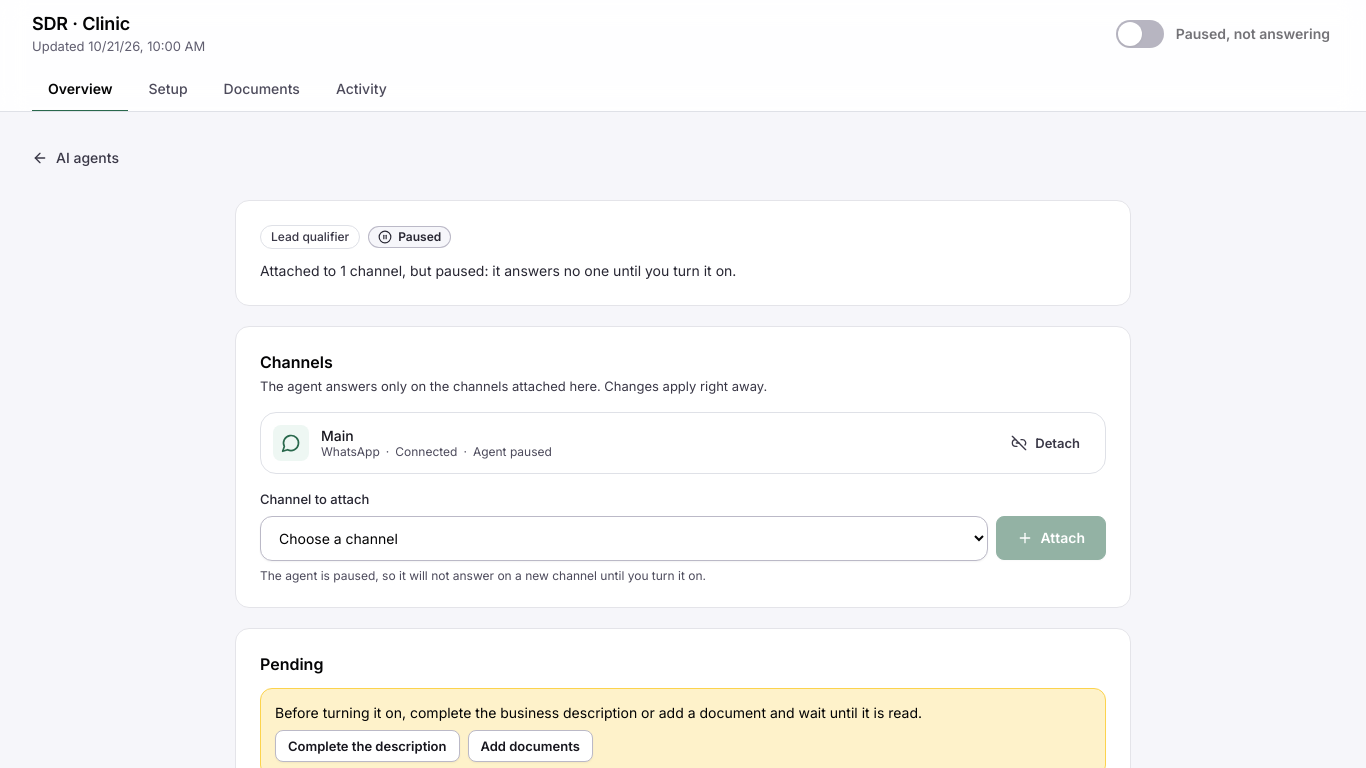
AgentDetail › keeps Turn on off until the agent knows the business, and says how to fix it
The width and height of the screenshot is (1366, 768).
Expected: the switch is disabled, [1112,12,1334,56]
Expected: the text "Before turning it on, complete the business description or add a document and wait until it is read." is shown, [275,704,922,721]
What coordinates should you click on to do the following:
click the button "Add documents"
I would click on:
 (530, 746)
Its box is [468,730,593,762].
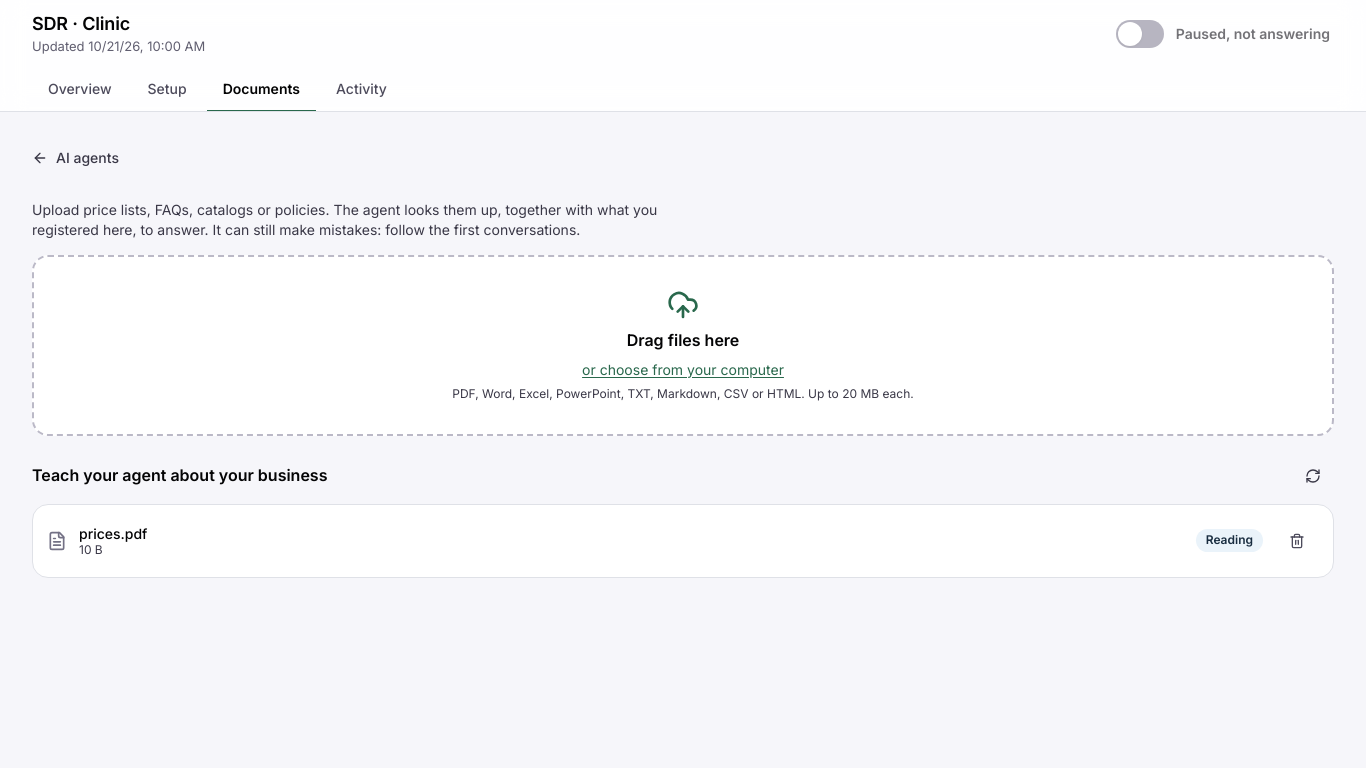
Expected: the text "Reading" is shown, [1196,529,1263,552]
